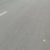zebra: (8, 9, 50, 46)
